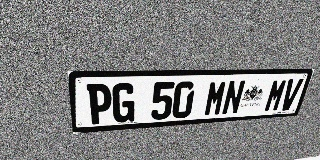0: (171, 81, 196, 119)
5: (151, 82, 175, 120)
G: (112, 83, 136, 123)
M: (203, 80, 228, 116), (263, 79, 289, 112)
N: (221, 80, 246, 115)
P: (87, 83, 112, 125)
V: (278, 78, 304, 111)
